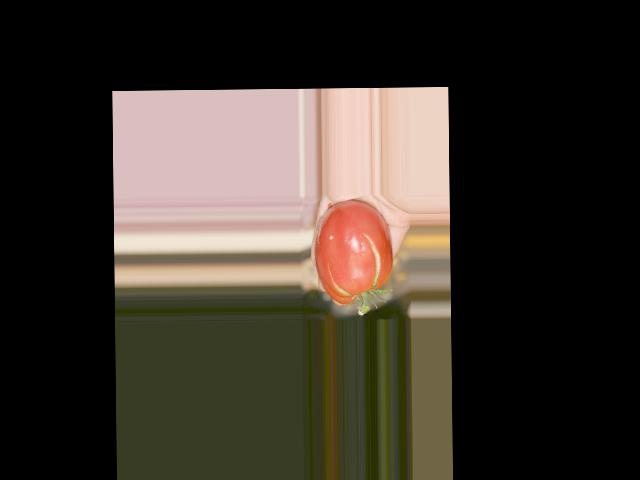tomato: (313, 199, 391, 305)
